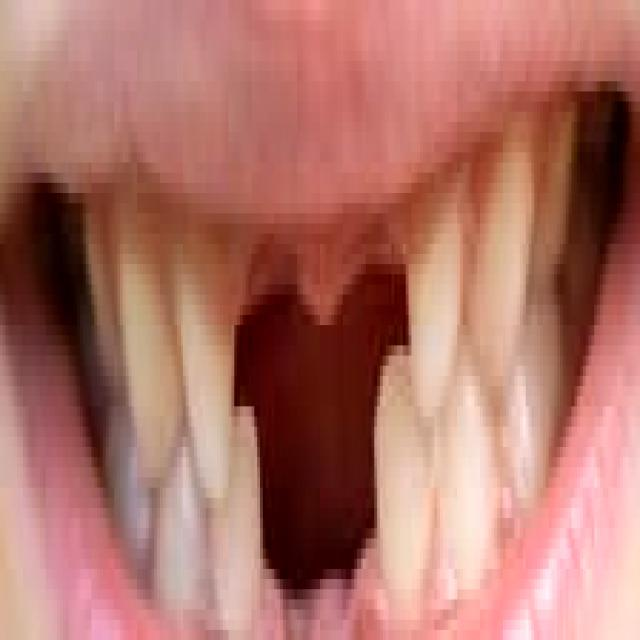hypodontia: (200, 203, 429, 396), (245, 382, 390, 630)
